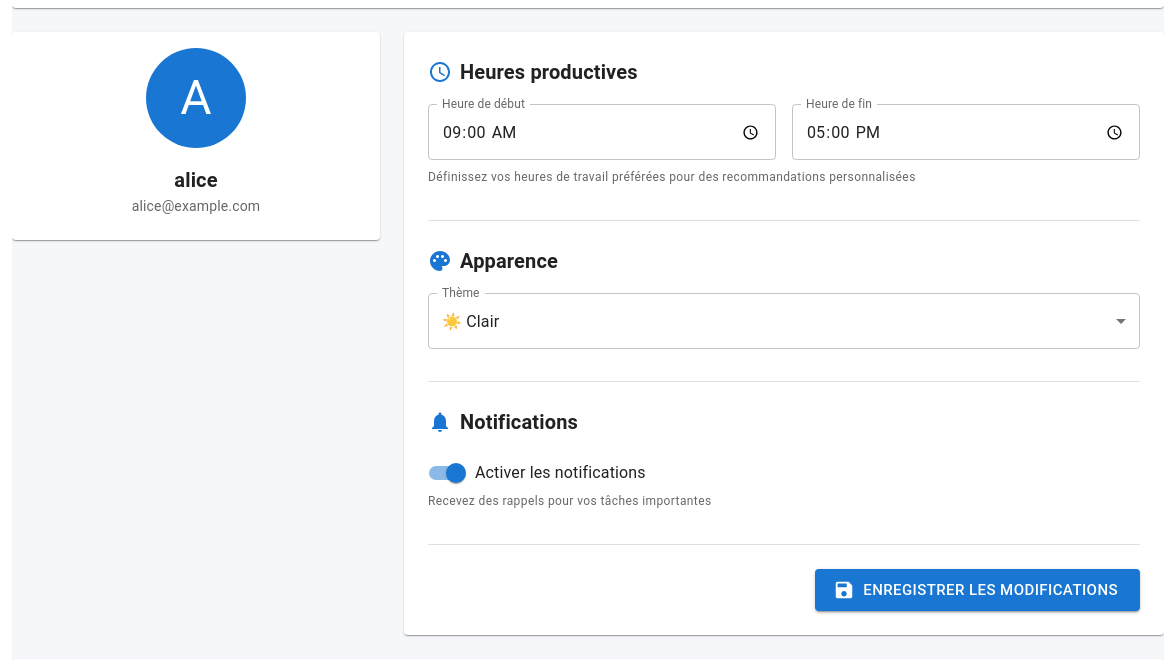
creates preferences and applies the selected theme after saving
(page scrolled)
Step 1. Replace the text in the field showing "clair" with "sombre" → (784, 321), box [428,293,1140,349]
(page scrolled)
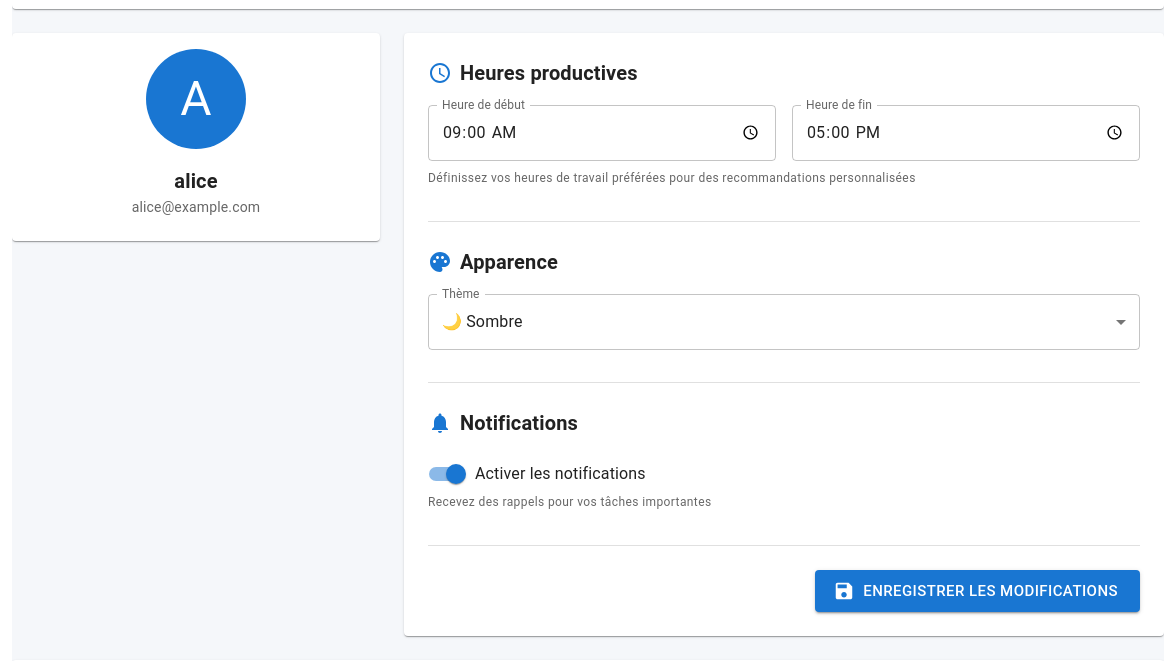
Step 2. Click the switch → (537, 474), box [429,464,646,484]
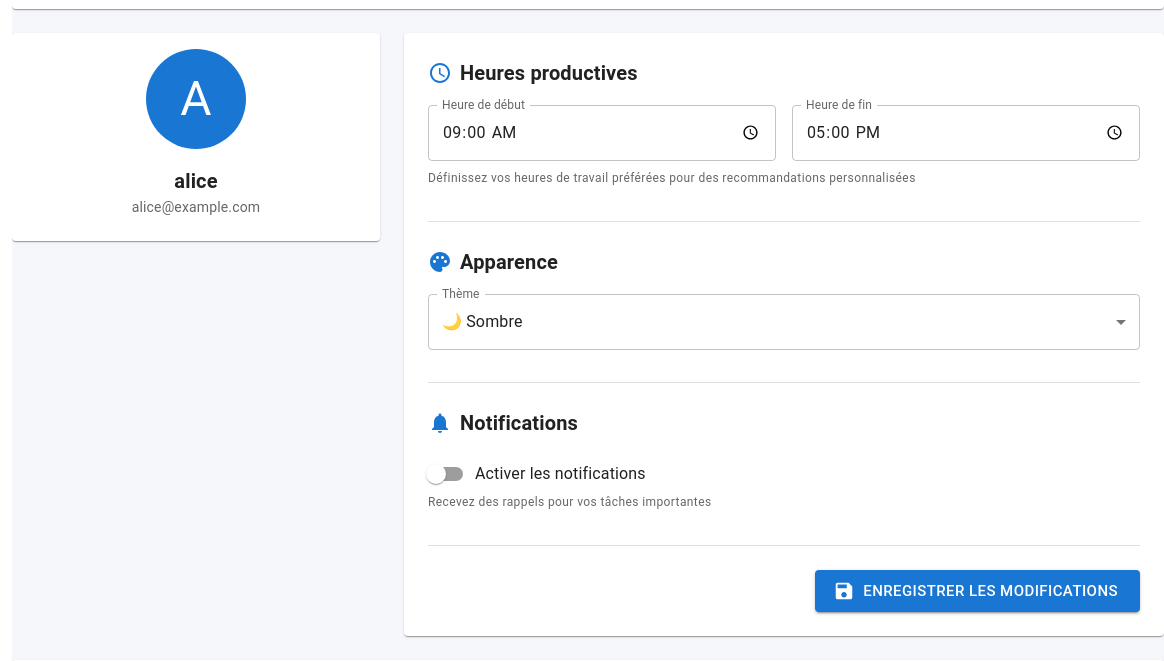
Step 3. Click the button "Enregistrer les modifications" → (978, 591), box [815,570,1140,612]
(page scrolled)
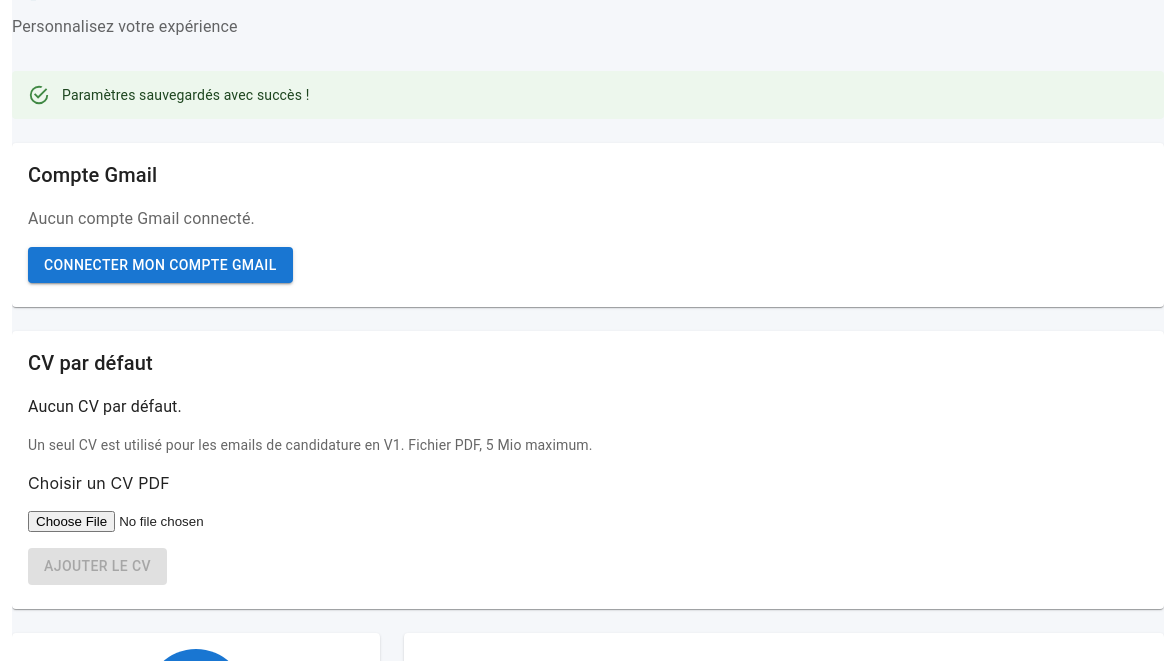
Now the text "Paramètres sauvegardés avec succès !" is shown, box [62,87,309,103]
